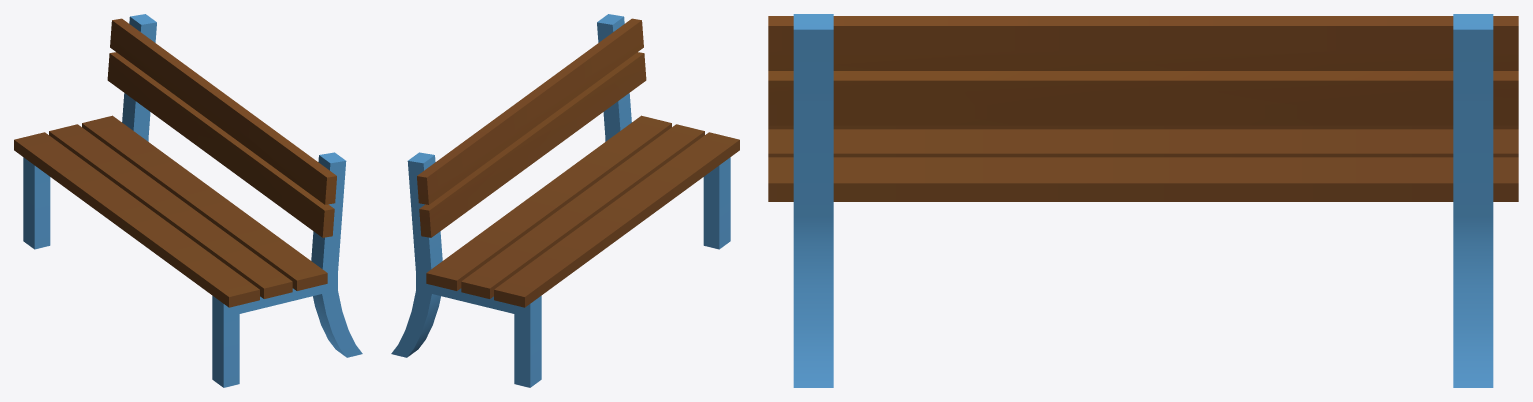
File: Bench_2_B.fbx
3 views of the same model, side by side, from view 1: azimuth 30°, elevation 25°; view 2: azimuth 150°, elevation 25°; view 3: azimuth 270°, elevation 25° (orthographic). The views are drawn at different scales.
Parts seen in each view (by area): view 1: Bench_2_B; view 2: Bench_2_B; view 3: Bench_2_B.
Boxes of the visible parts, x1,y1,x2,y2 form: Bench_2_B: (14,14,362,387); Bench_2_B: (391,14,739,387); Bench_2_B: (768,14,1518,387).
Size of the model in its own units: 62.34 by 83.85 by 165.
